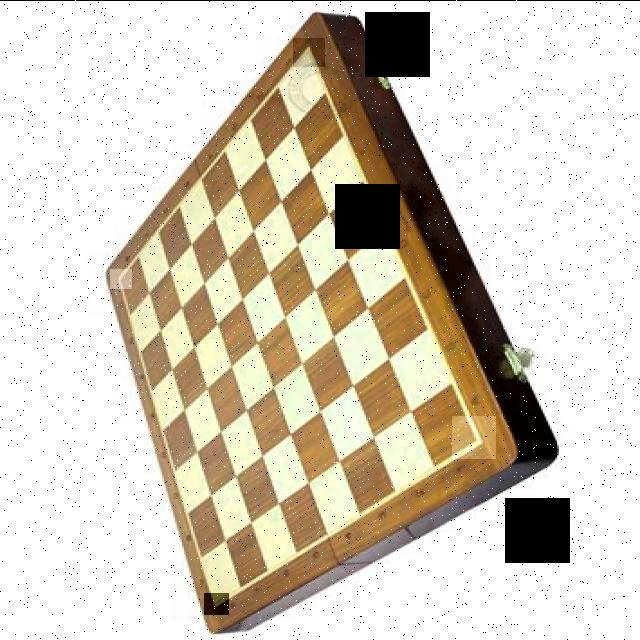chess-table-corners: (452, 415, 497, 458), (293, 37, 325, 66), (204, 592, 229, 614), (110, 268, 132, 288)
